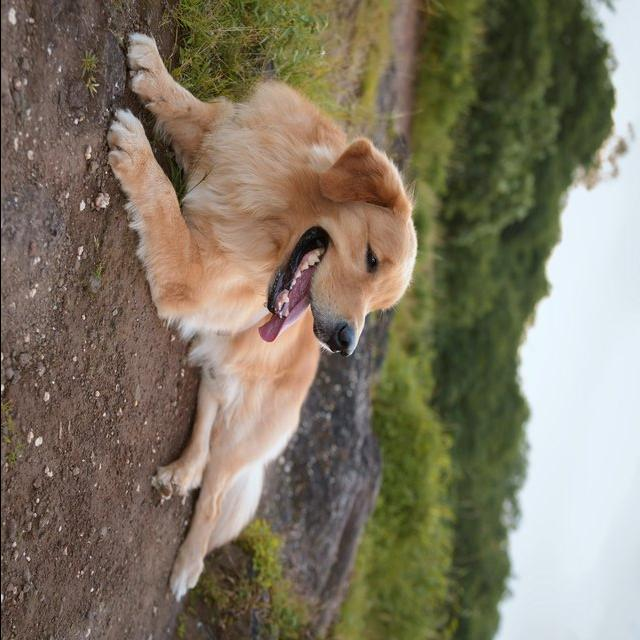retriever: (104, 30, 419, 602)
